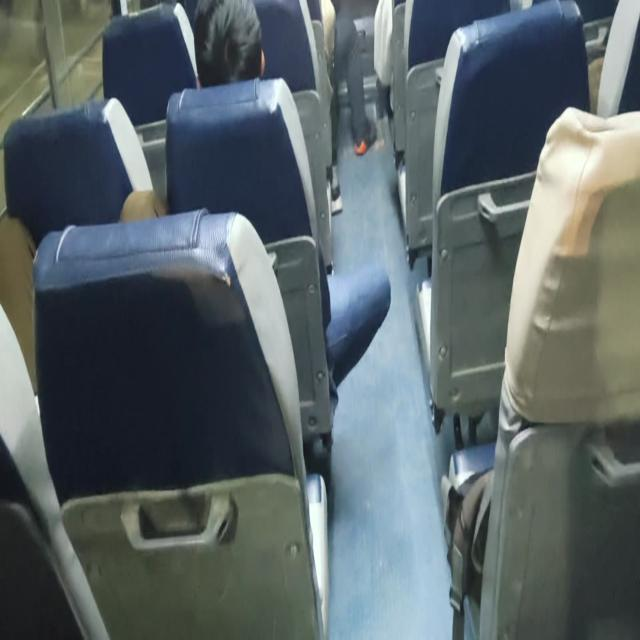person: (330, 0, 378, 156), (192, 0, 266, 88)
